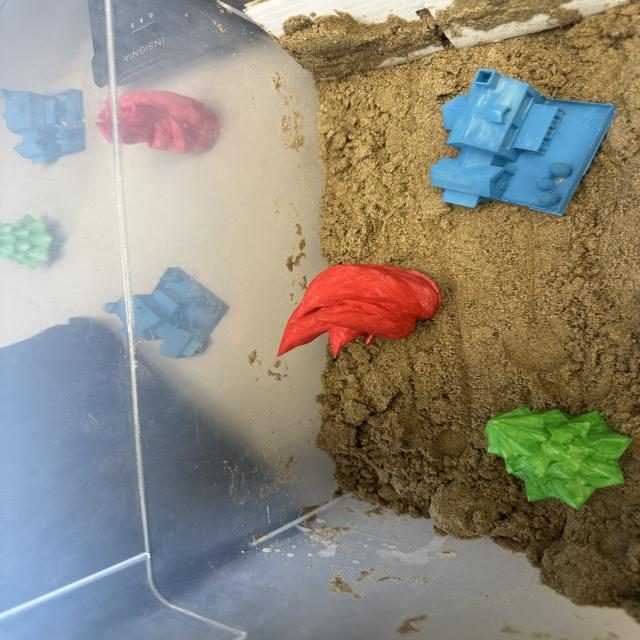fire: (274, 262, 449, 358), (96, 89, 220, 155)
house: (429, 67, 616, 220), (101, 264, 231, 362), (0, 84, 86, 164)
tree: (486, 402, 636, 510)
